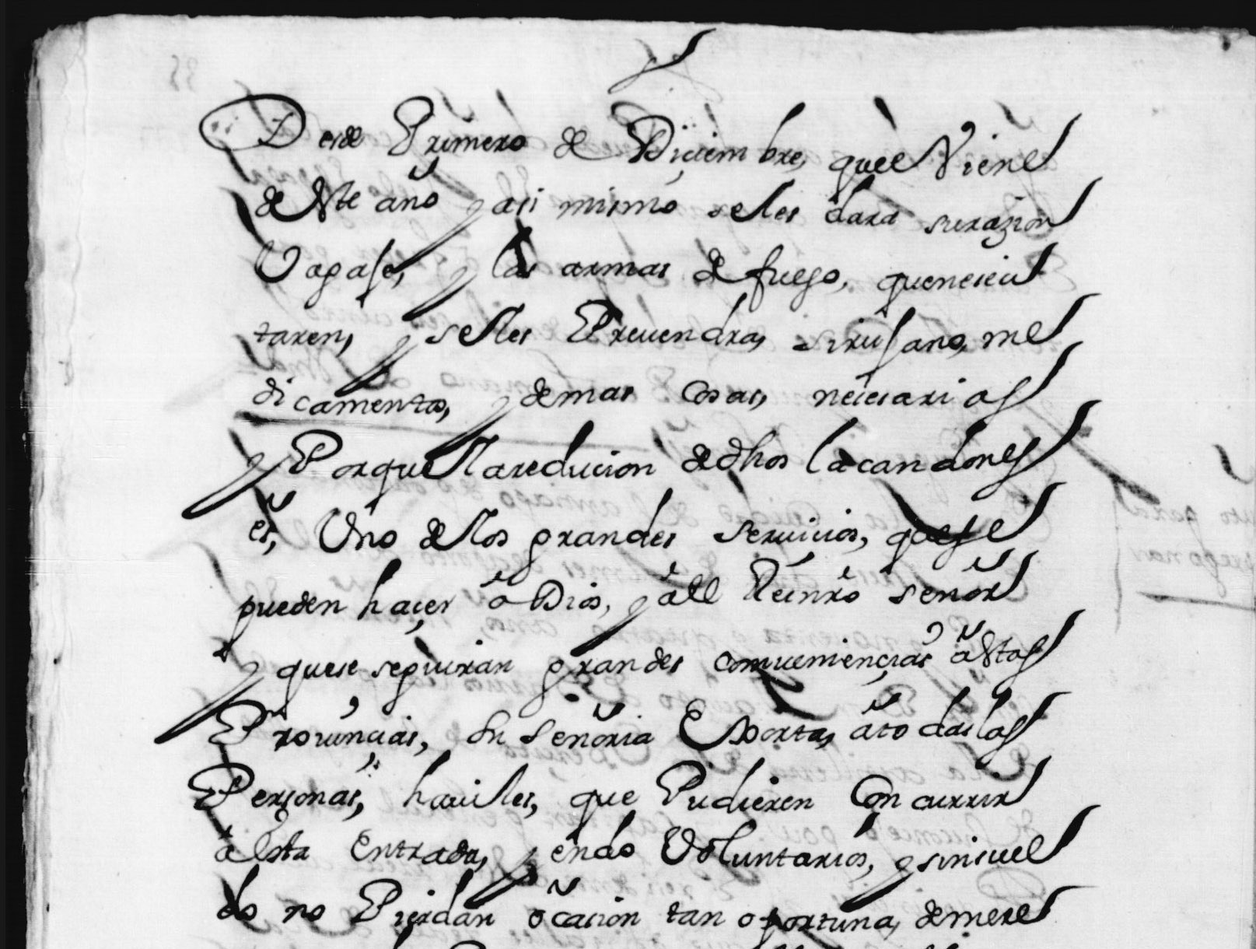lacandon: (806, 400, 1101, 501)
